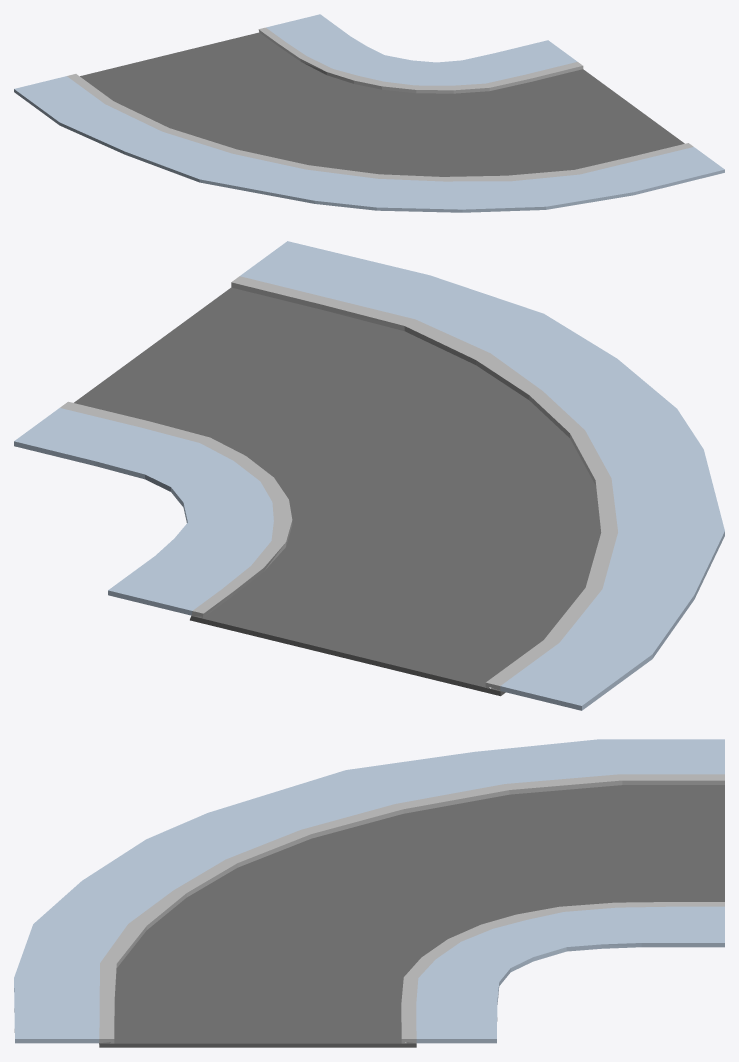
The picture shows the model from 3 angles, top to bottom: view 1: azimuth 30°, elevation 25°; view 2: azimuth 150°, elevation 25°; view 3: azimuth 270°, elevation 25°; orthographic projection. The views are drawn at different scales.
Parts seen in each view (by area): view 1: Curve road; view 2: Curve road; view 3: Curve road.
Part boxes in pixels (<box>): Curve road: <box>14,14,724,212</box>; Curve road: <box>14,241,724,710</box>; Curve road: <box>14,739,724,1047</box>.
Size of the model in its own units: 149 by 2.06 by 149.
